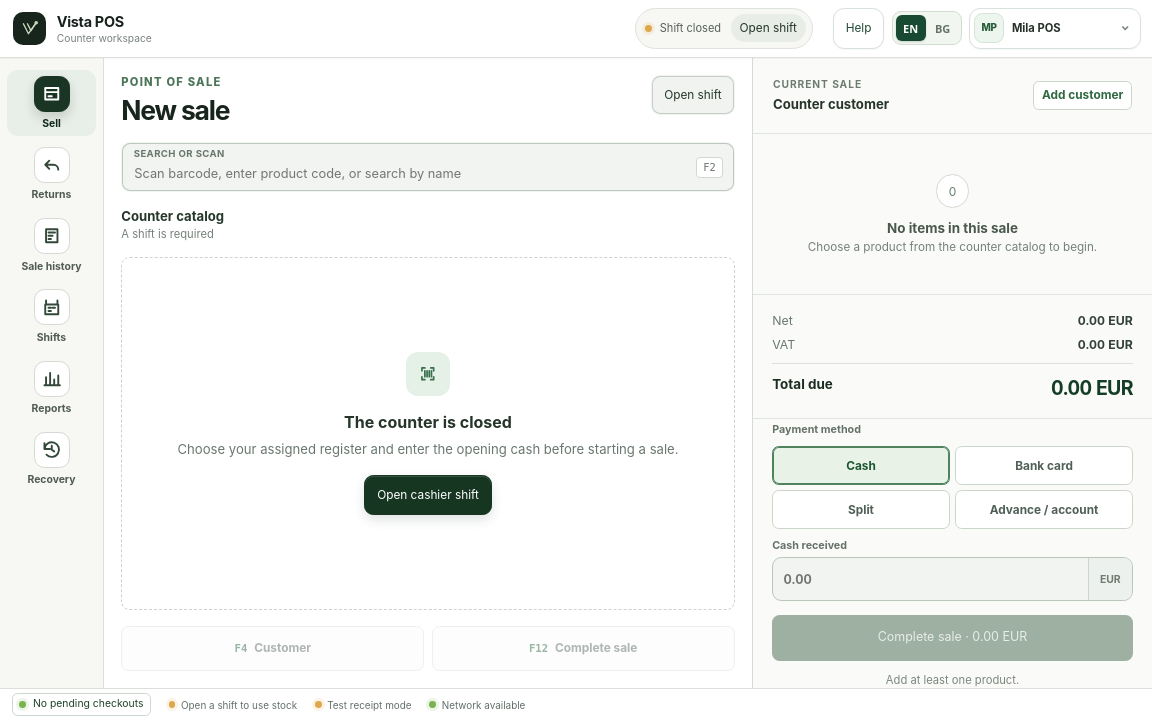
POS application › prepares a Finance invoice from a customer receipt in sale history
The width and height of the screenshot is (1152, 720).
Expected: the heading "New sale" is shown, 121,94 -> 229,126
Click the link "Sale history" at (51, 245), box 21,218 -> 82,273
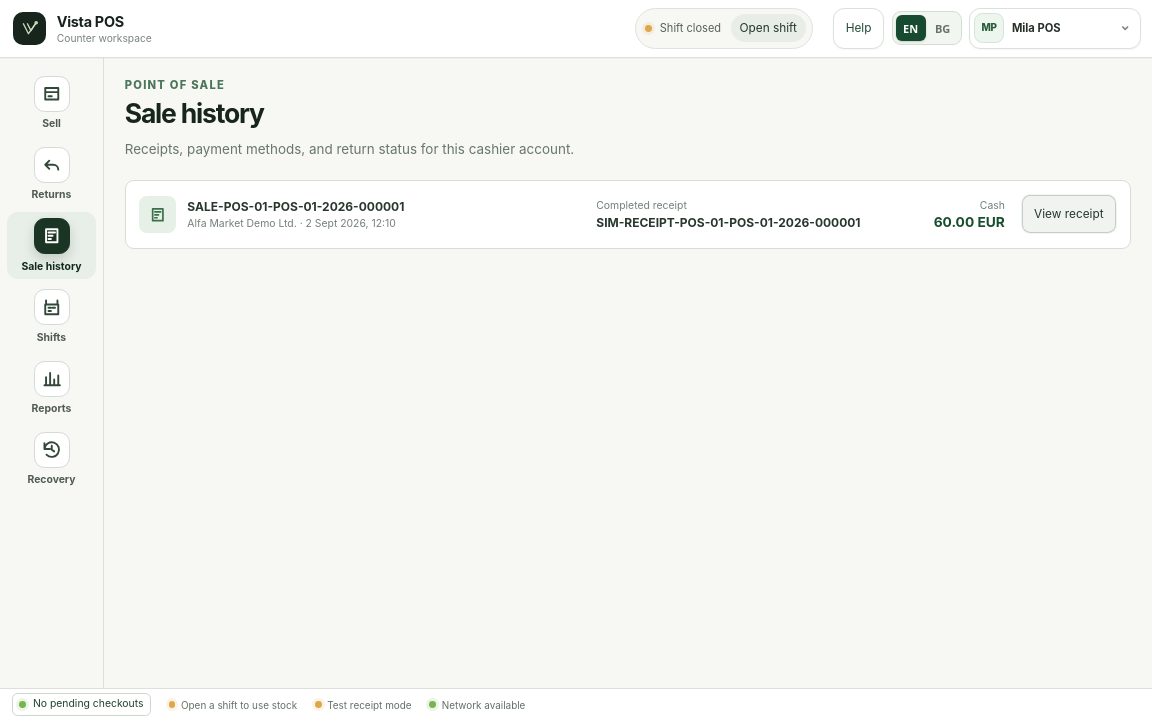
Click the button "View receipt" at (1069, 214), box 1021,194 -> 1117,234
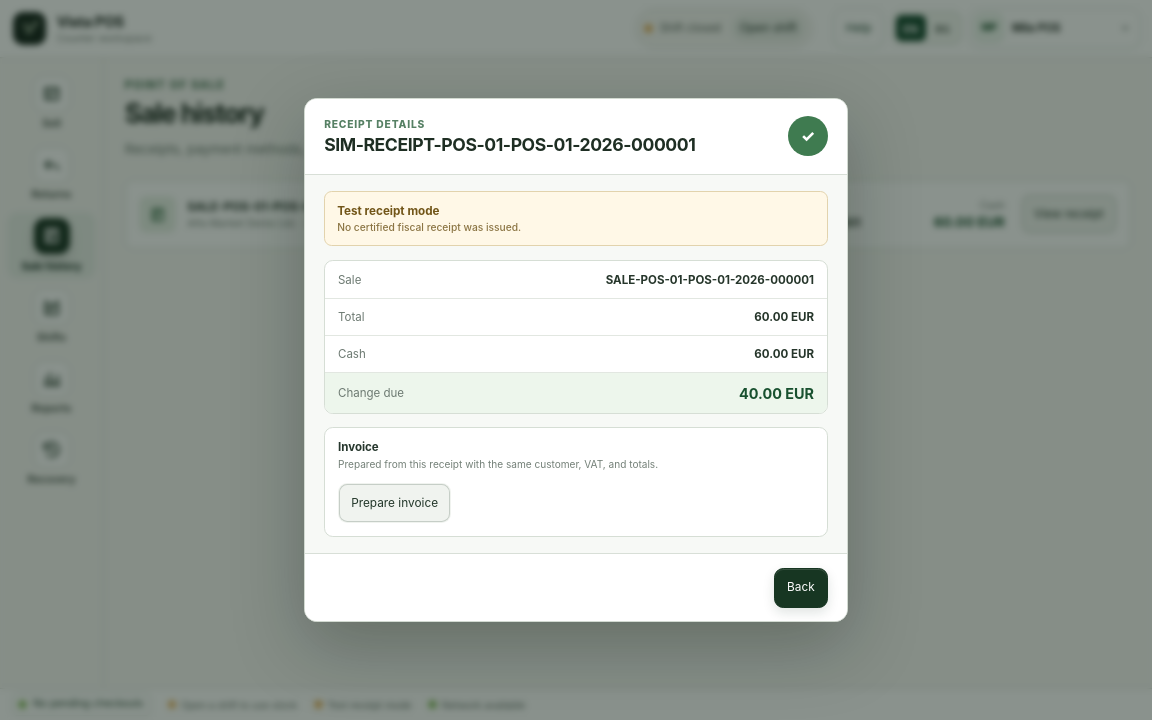
Click the button "Prepare invoice" at (395, 503), box 338,483 -> 451,523
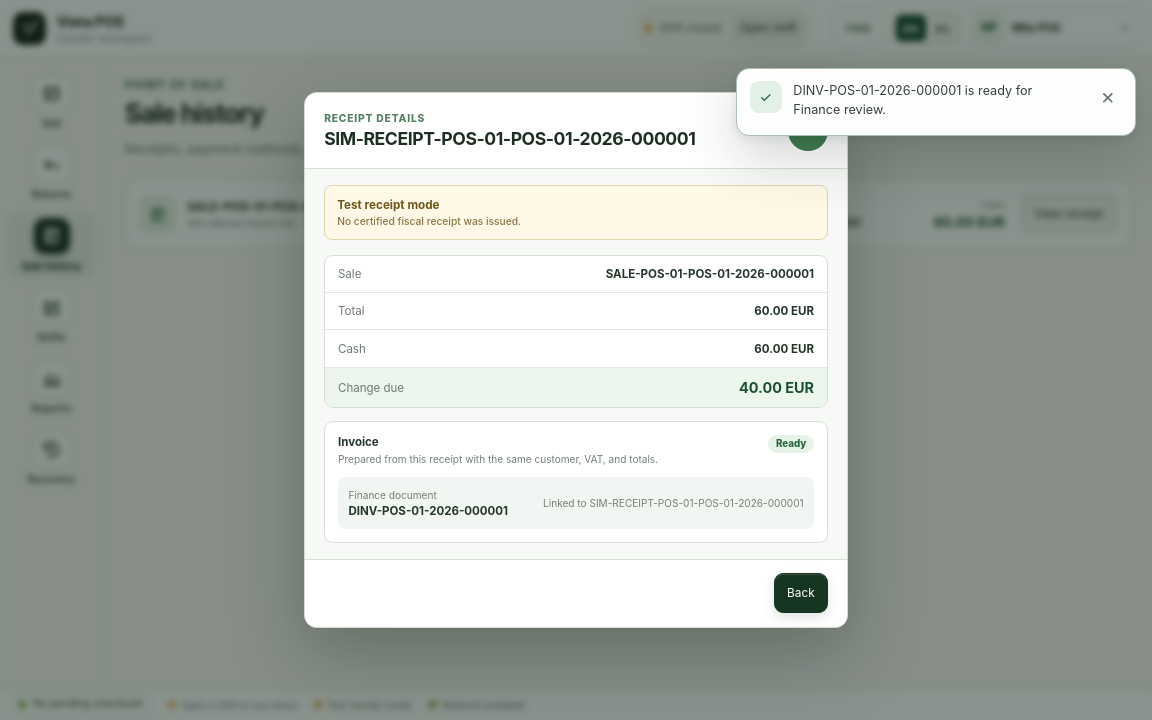
Expected: the text "DINV-POS-01-2026-000001" is shown, 348,504 -> 508,518
Expected: the text "Linked to SIM-RECEIPT-POS-01-POS-01-2026-000001" is shown, 543,496 -> 804,510
